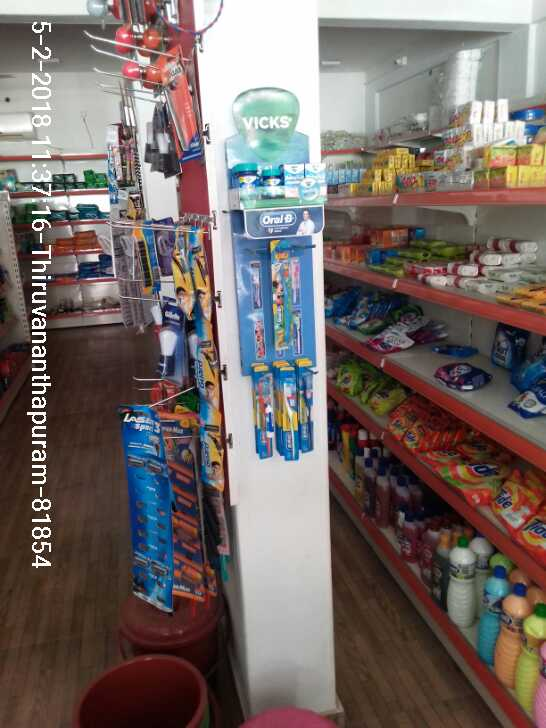beauty: (193, 323, 226, 406), (197, 404, 227, 486), (187, 232, 212, 316)
pharmacy: (277, 367, 301, 460), (252, 367, 275, 457), (297, 359, 313, 451), (262, 167, 285, 198), (233, 163, 260, 188), (306, 163, 327, 195), (282, 165, 304, 195)
